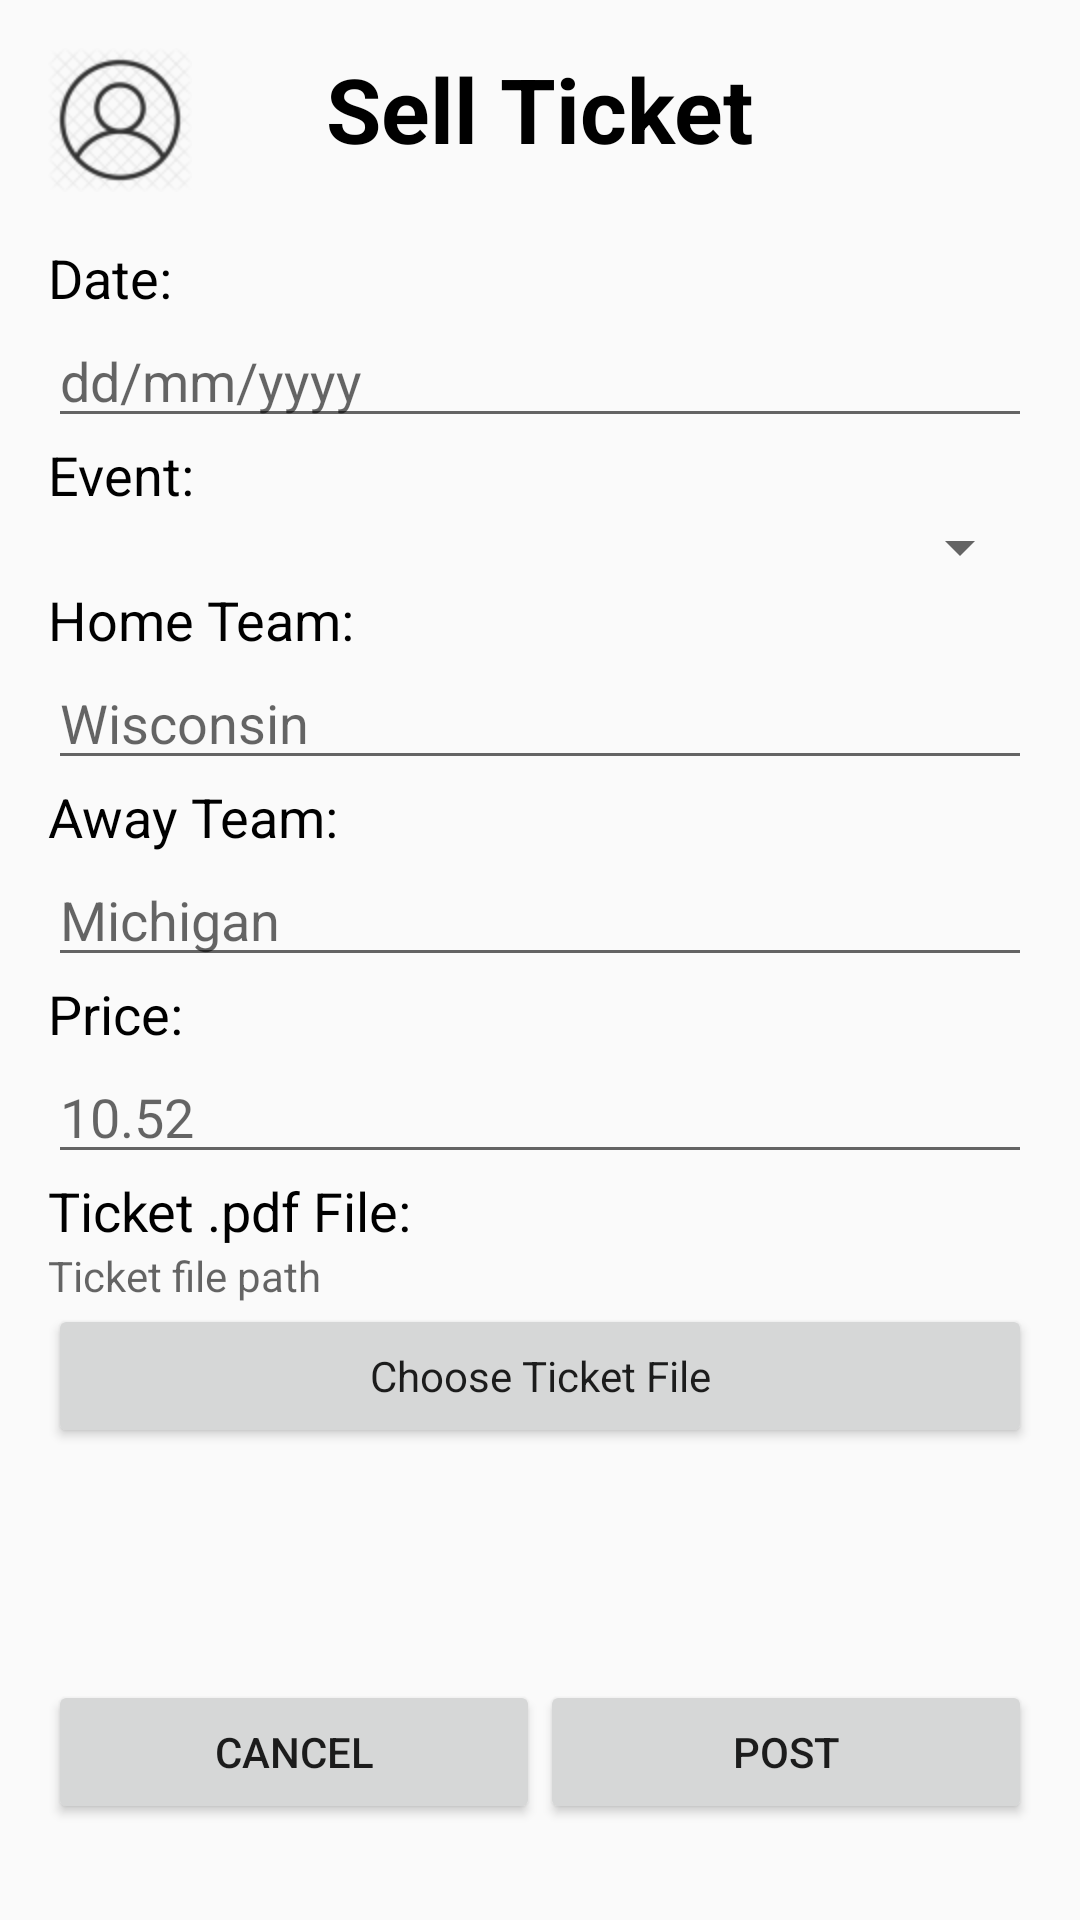

Where to tap for icons on this 1080x1920 app screen, as point (x, y):
profile: point (120, 120)
